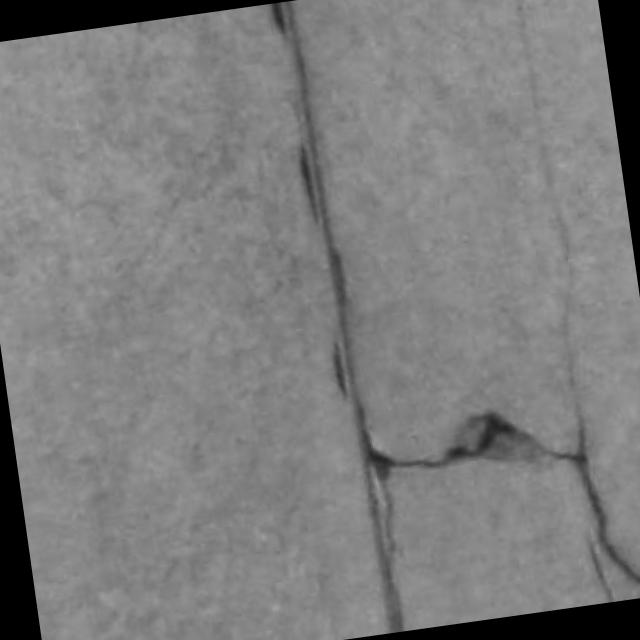crack: (273, 1, 404, 632), (371, 412, 639, 590), (555, 417, 639, 588), (371, 412, 558, 471), (589, 540, 616, 601), (299, 147, 320, 223), (332, 344, 348, 398), (271, 2, 287, 35)
